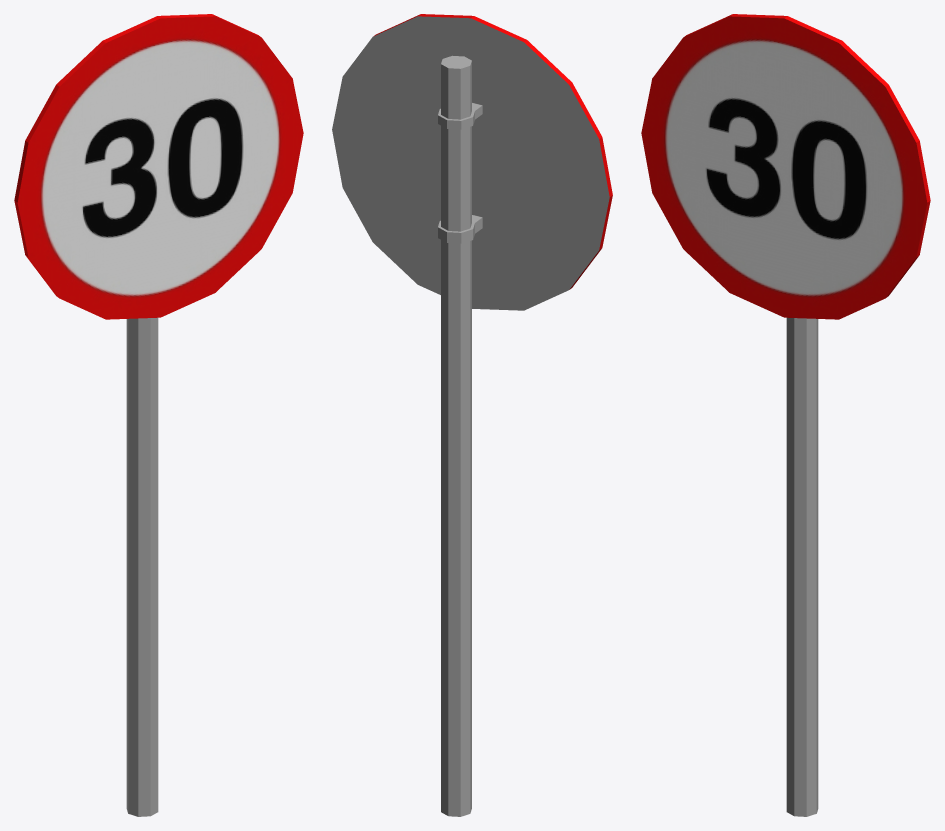
3 views of the same model, side by side, from view 1: azimuth 30°, elevation 25°; view 2: azimuth 150°, elevation 25°; view 3: azimuth 330°, elevation 25° (orthographic). The views are drawn at different scales.
Parts seen in each view (by area): view 1: Cylinder; view 2: Cylinder; view 3: Cylinder.
Boxes of the visible parts, <box> form: Cylinder: <box>14,14,303,816</box>; Cylinder: <box>332,14,612,816</box>; Cylinder: <box>641,14,930,816</box>.
Size of the model in its own units: 100 by 269 by 17.
